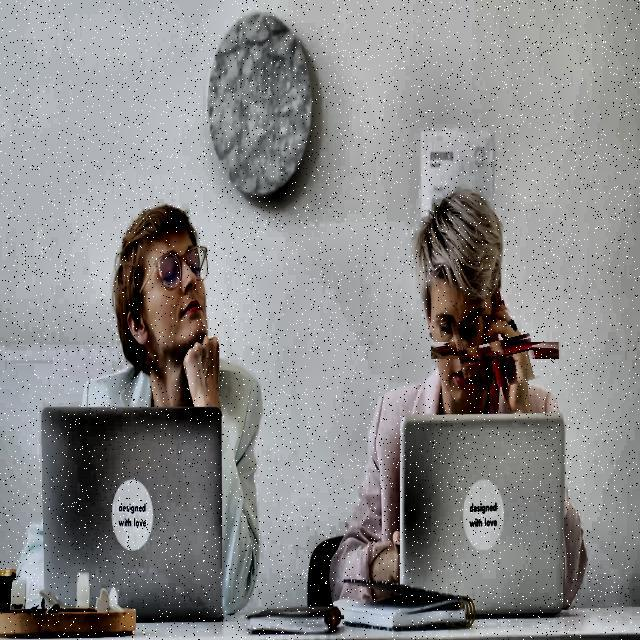Phone: (456, 309, 536, 392)
